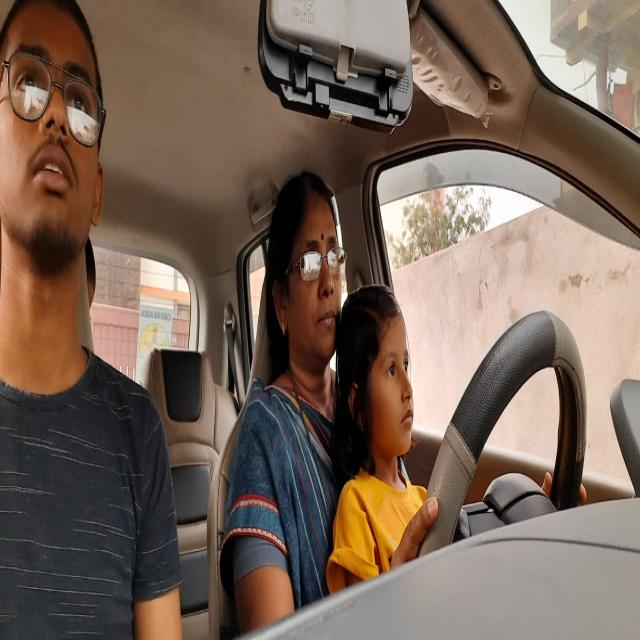child: (342, 285, 424, 461)
person: (1, 0, 109, 318), (266, 172, 348, 380)
